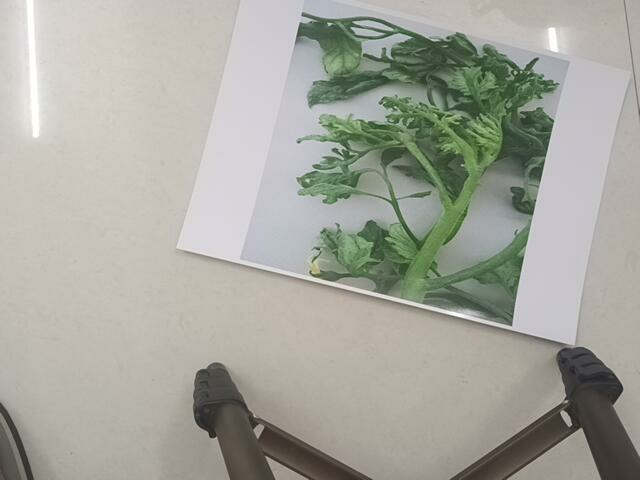Tomamto_Mosaic_virus: (298, 13, 528, 322)
